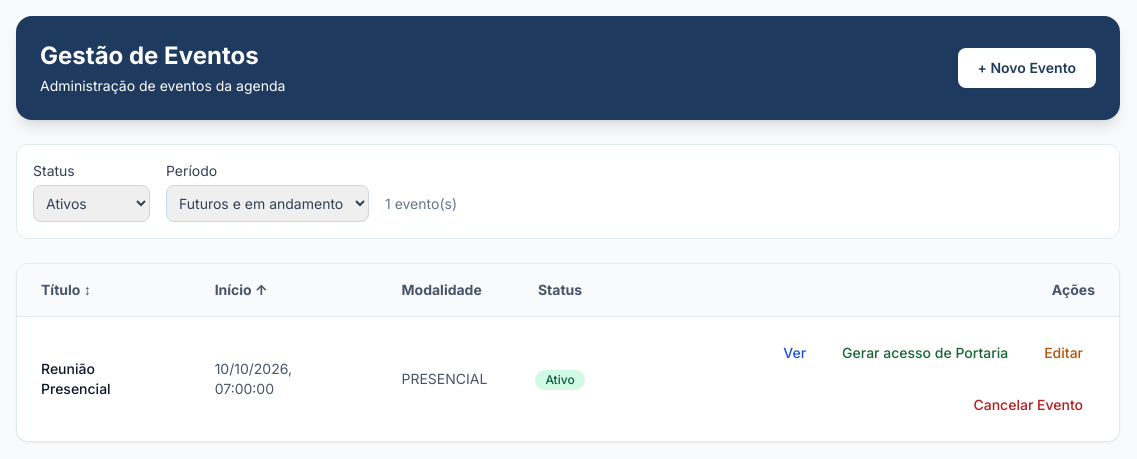
Scenario: EventosView › oculta cancelados por padrão e permite consultá-los pelo filtro de status
Expected: the text "Reunião Presencial" is shown, [17,316,191,441]
Expected: the text "Evento Cancelado" is not shown
Select "Cancelados" in the dropdown named "Filtrar por status do evento" at x=92, y=204, box [33,185,150,222]
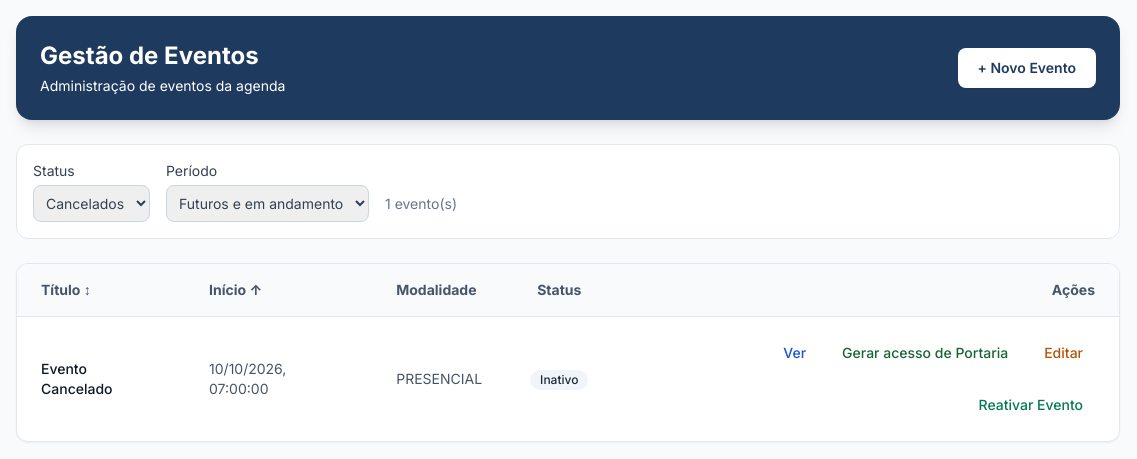
Result: the text "Evento Cancelado" is shown at [17,316,185,441]
